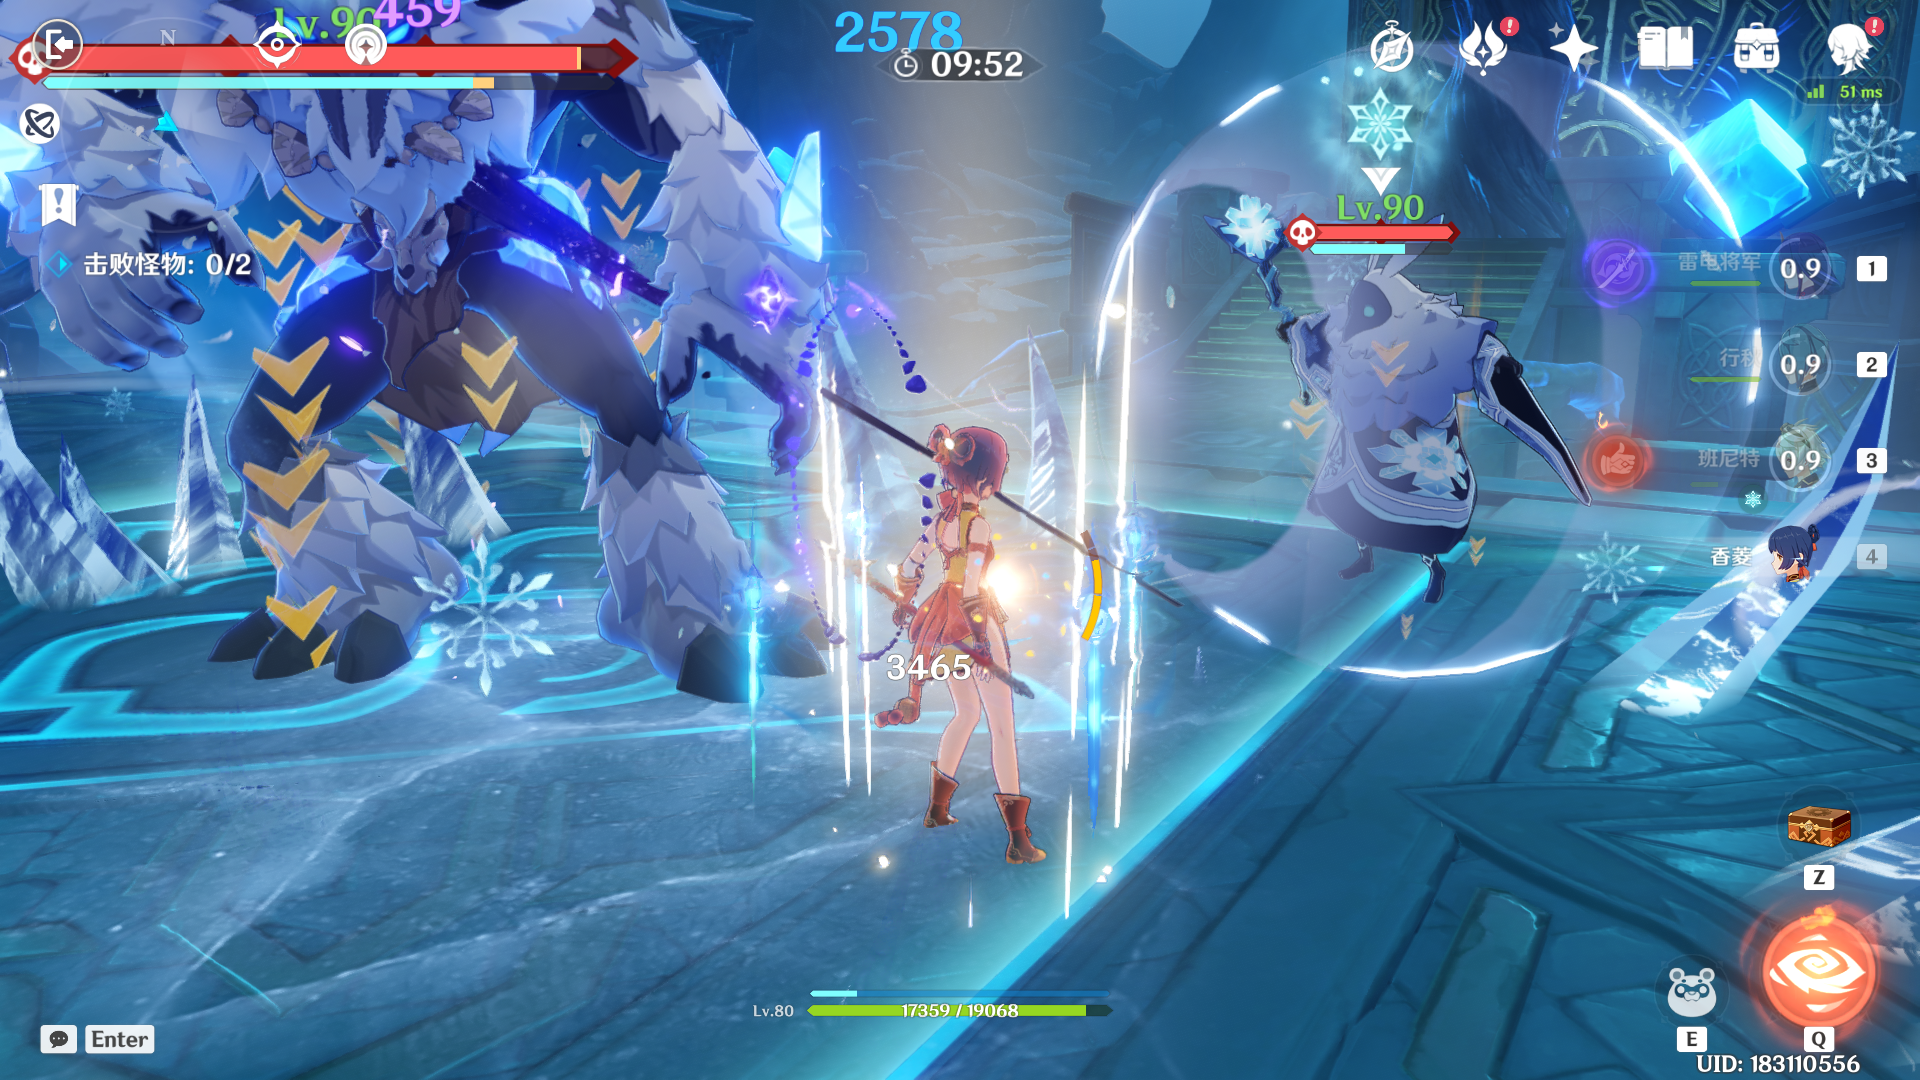bosshili: (1, 1, 886, 796)
caster: (1208, 160, 1577, 650)
character: (777, 363, 1137, 902)
